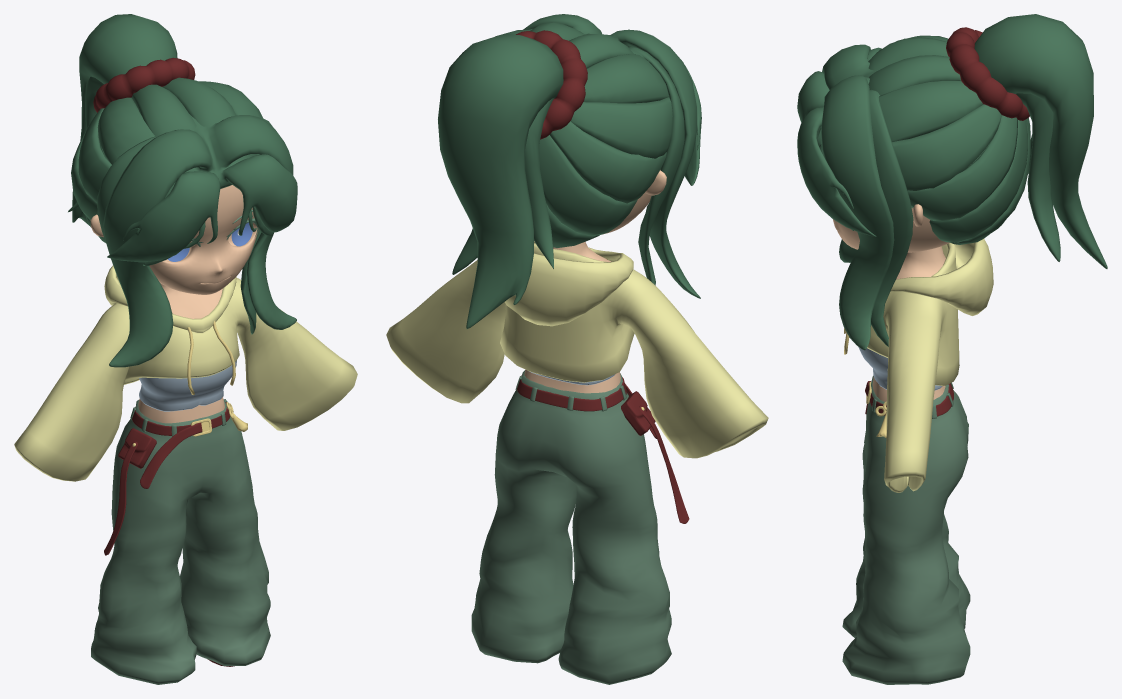
The model's file is CharacterMeleePLACEHOLDER.fbx.
The picture shows the model from 3 angles, left to right: view 1: azimuth 30°, elevation 25°; view 2: azimuth 150°, elevation 25°; view 3: azimuth 270°, elevation 25°; orthographic projection. The views are drawn at different scales.
Visible parts, largest first — view 1: Cylinder.005, Cube.006, Head, Torus; view 2: Cylinder.005, Cube.006, Torus, Head; view 3: Cube.006, Cylinder.005, Torus, Head.
Boxes of the visible parts, bbox=[...] form: Cylinder.005: bbox=[14, 265, 357, 684]; Cube.006: bbox=[68, 14, 297, 367]; Head: bbox=[90, 185, 258, 423]; Torus: bbox=[93, 57, 247, 666]; Cylinder.005: bbox=[386, 241, 768, 684]; Cube.006: bbox=[438, 14, 701, 328]; Torus: bbox=[515, 30, 689, 523]; Head: bbox=[524, 170, 666, 393]; Cube.006: bbox=[797, 14, 1107, 350]; Cylinder.005: bbox=[842, 239, 993, 684]; Torus: bbox=[844, 27, 1029, 437]; Head: bbox=[833, 204, 949, 401].
Size of the model in its own units: 517 by 873 by 386.
